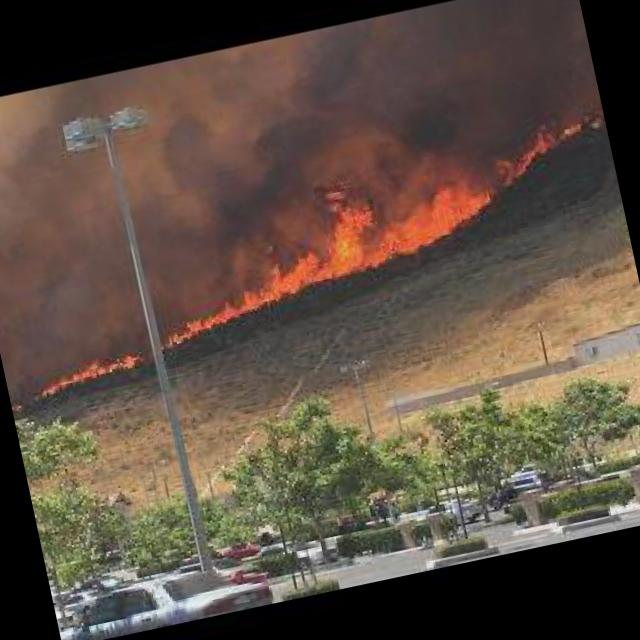fire: (140, 164, 502, 351), (5, 350, 144, 416), (498, 107, 614, 183)
